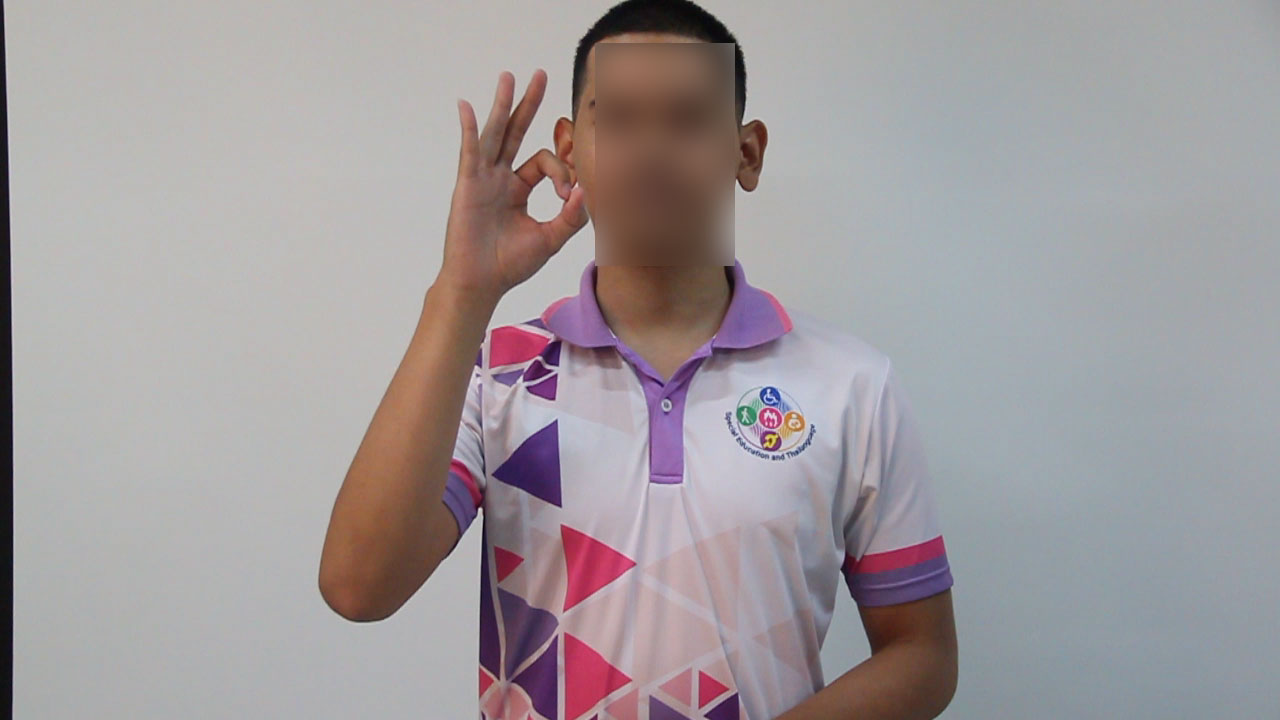for: (412, 53, 596, 314)
